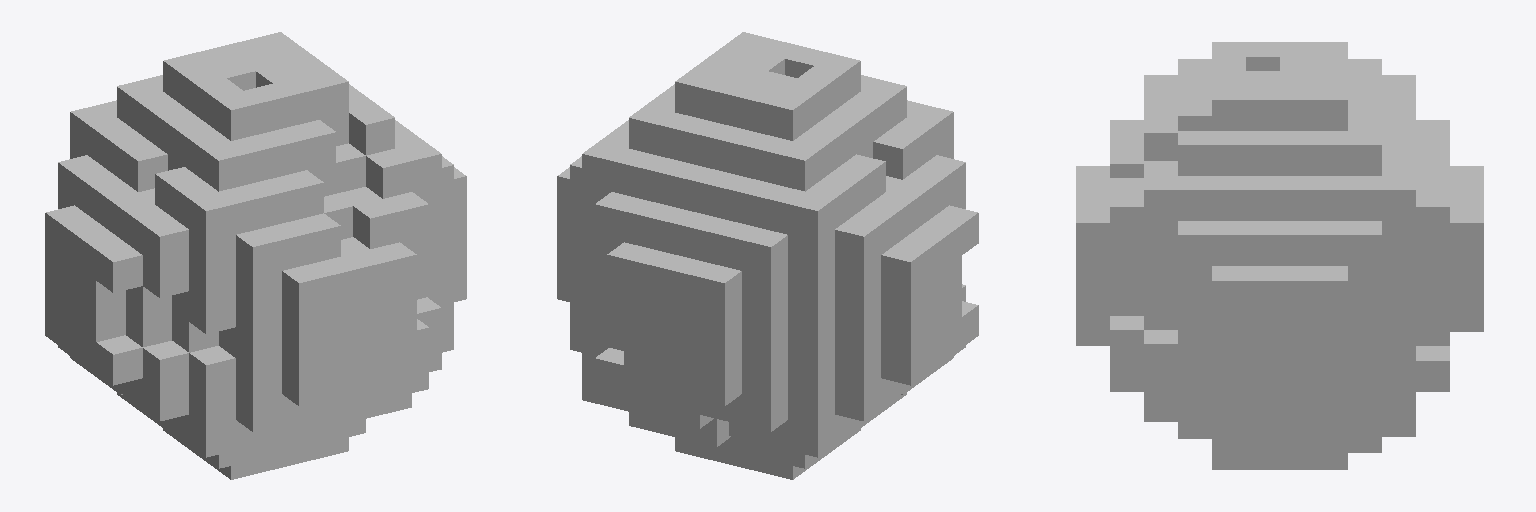
The model's file is wooden ball.obj.
3 renders of one model, left to right at view 1: azimuth 30°, elevation 25°; view 2: azimuth 150°, elevation 25°; view 3: azimuth 270°, elevation 25°, orthographic.
Parts seen in each view (by area): view 1: object 1; view 2: object 1; view 3: object 1.
Part boxes in pixels (x1,y1,x2,y2): object 1: (45,32,466,479); object 1: (557,32,978,479); object 1: (1076,42,1483,469).
Size of the model in its own units: 1.2 by 1.2 by 1.2.